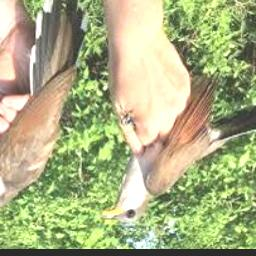Cuckoo: (102, 71, 256, 223), (0, 0, 86, 210)
